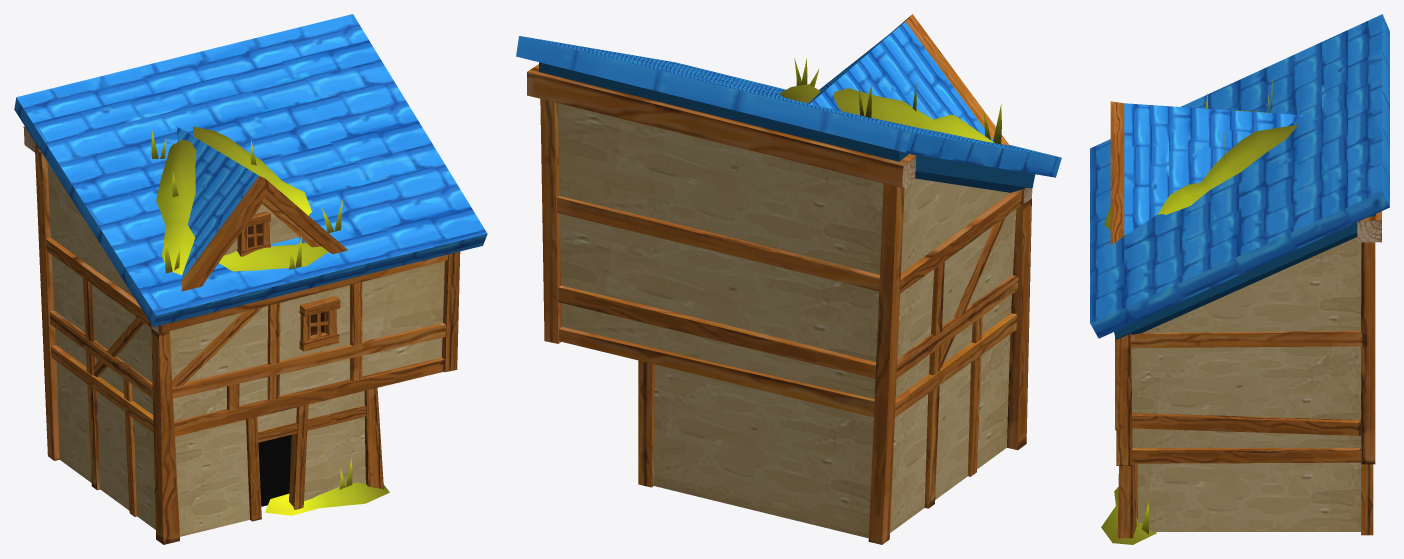
The model's file is buildings_01.fbx.
3 views of the same model, side by side, from view 1: azimuth 30°, elevation 25°; view 2: azimuth 150°, elevation 25°; view 3: azimuth 270°, elevation 25° (orthographic). The views are drawn at different scales.
Parts seen in each view (by area): view 1: hutbulks_01, grass.01; view 2: hutbulks_01, grass.01; view 3: hutbulks_01, grass.01.
Boxes of the visible parts, x1=… form: hutbulks_01: x1=14, y1=14, x2=487, y2=544; grass.01: x1=151, y1=126, x2=389, y2=515; hutbulks_01: x1=516, y1=14, x2=1061, y2=544; grass.01: x1=779, y1=58, x2=1001, y2=144; hutbulks_01: x1=1090, y1=14, x2=1389, y2=538; grass.01: x1=1101, y1=80, x2=1297, y2=544.
Size of what is drawn, in the model's own units: 7.93 by 8.25 by 5.63.
